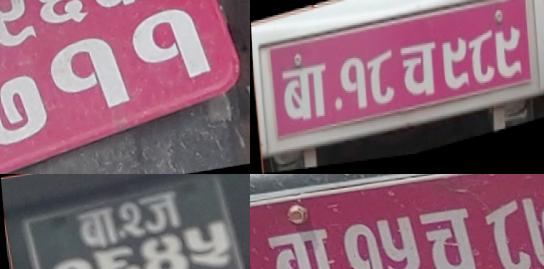0: (74, 208, 118, 251)
1: (38, 31, 132, 124), (123, 5, 212, 96), (335, 215, 391, 269), (334, 48, 369, 123), (116, 201, 144, 240)
2: (137, 193, 181, 237)
3: (44, 256, 102, 269)
4: (91, 245, 143, 269)
5: (373, 209, 429, 269), (135, 233, 188, 269)
6: (180, 222, 233, 269), (28, 0, 89, 37)
7: (0, 65, 51, 157), (518, 191, 544, 269)
8: (475, 197, 532, 269), (362, 44, 397, 116), (465, 31, 497, 97)
9: (436, 31, 470, 99), (0, 0, 40, 55), (491, 24, 524, 90)
ba: (258, 221, 345, 269), (276, 55, 330, 132)
cha: (414, 204, 482, 269), (395, 36, 440, 110)
pa: (77, 0, 149, 21)
